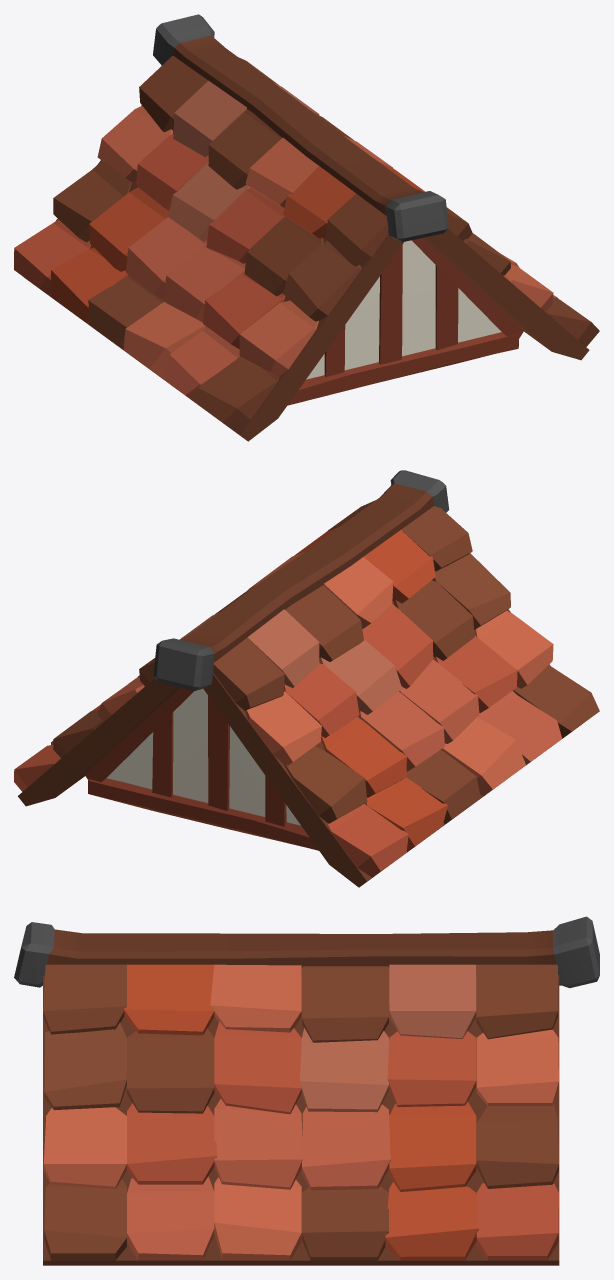
Rendered from House_Roof_E.fbx.
3 views of the same model, one above another, from view 1: azimuth 30°, elevation 25°; view 2: azimuth 150°, elevation 25°; view 3: azimuth 270°, elevation 25° (orthographic). The views are drawn at different scales.
Parts seen in each view (by area): view 1: House_Roof_E; view 2: House_Roof_E; view 3: House_Roof_E.
Boxes of the visible parts, x1=… form: House_Roof_E: x1=14, y1=14, x2=599, y2=441; House_Roof_E: x1=14, y1=470, x2=599, y2=887; House_Roof_E: x1=14, y1=916, x2=599, y2=1265.
Size of the model in its own units: 531 by 283 by 616.
